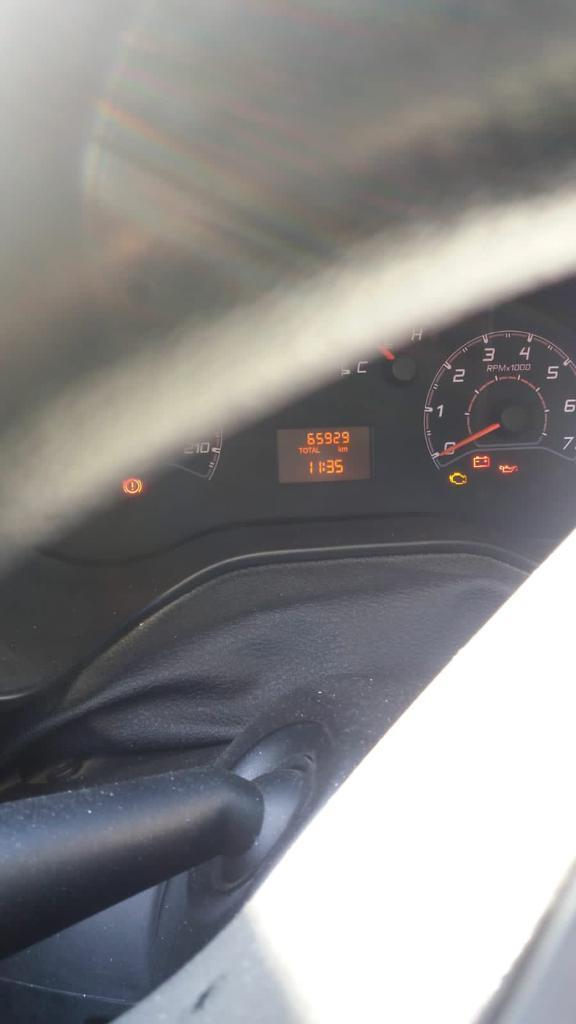1: (306, 459, 314, 474), (315, 458, 321, 474)
2: (332, 430, 340, 445)
3: (325, 458, 334, 474)
5: (334, 458, 343, 473), (315, 432, 323, 445)
6: (305, 431, 314, 445)
9: (323, 431, 332, 445), (341, 430, 350, 443)
X: (341, 446, 348, 452), (302, 446, 307, 454), (297, 446, 302, 454), (322, 462, 325, 472), (315, 446, 319, 453), (307, 446, 311, 453), (337, 445, 341, 452), (312, 447, 315, 454)
odometer: (271, 423, 377, 486)
